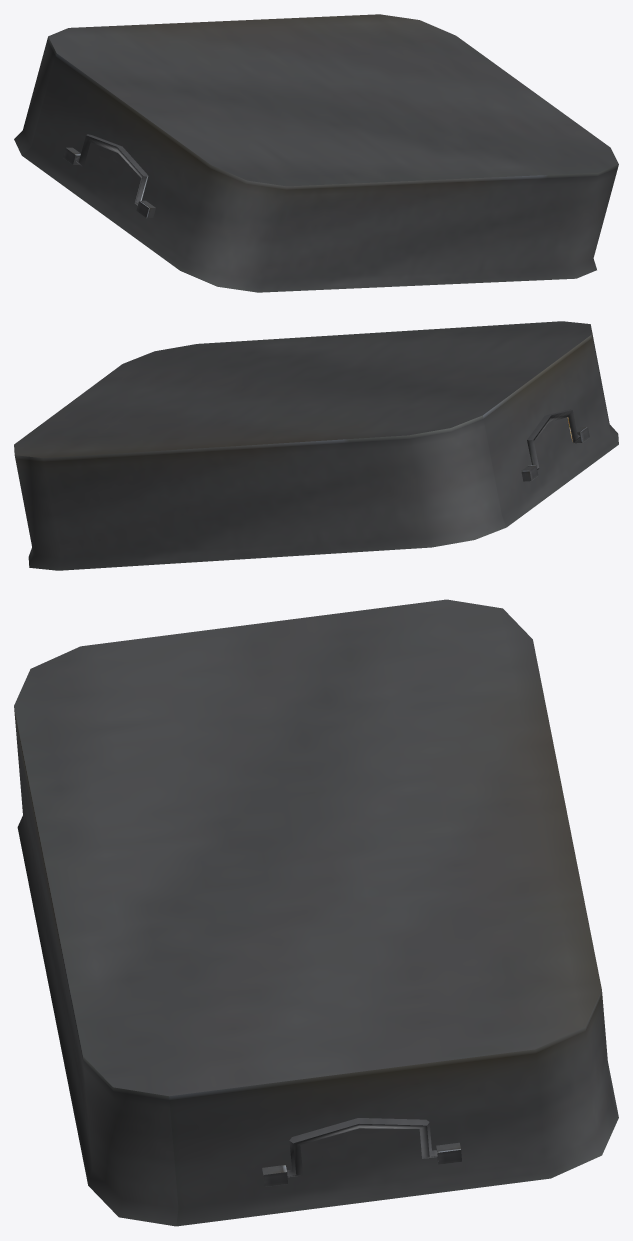
Rendered from H_LasagnaPan.fbx.
3 renders of one model, top to bottom at view 1: azimuth 30°, elevation 25°; view 2: azimuth 150°, elevation 25°; view 3: azimuth 270°, elevation 25°, orthographic. The views are drawn at different scales.
Parts seen in each view (by area): view 1: LasagnaPan; view 2: LasagnaPan; view 3: LasagnaPan.
Part boxes in pixels (x1=…): LasagnaPan: x1=14, y1=14, x2=618, y2=292; LasagnaPan: x1=14, y1=321, x2=618, y2=570; LasagnaPan: x1=14, y1=599, x2=618, y2=1226.
Size of the model in its own units: 72.69 by 33.76 by 56.2.
